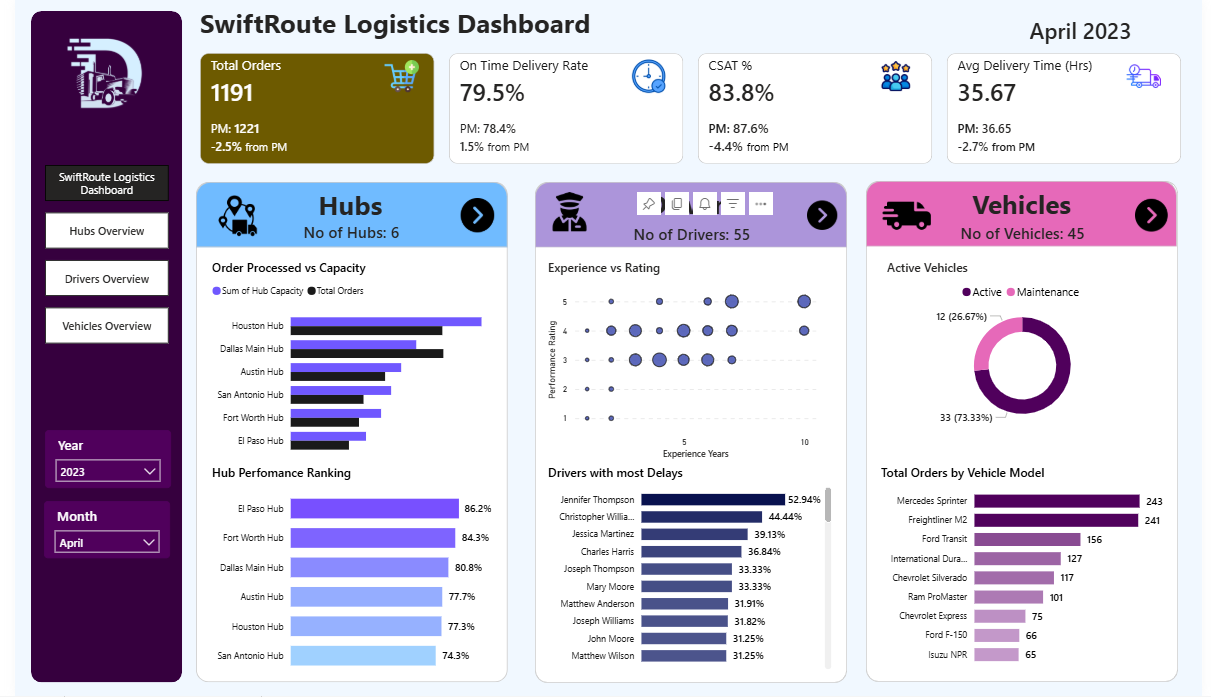

What the dashboard file says about the page in this screenshot:
{"tool":"powerbi","page":{"name":"SwiftRoute Logistics Dashboard","canvas":[1450,850],"ordinal":0},"visuals":[{"type":"shape","box":[19,13.3,184.6,820.1],"z":0},{"type":"textbox","box":[220.7,0,504.3,72.3],"z":1000},{"type":"cardVisual","fields":{"Data":["Orders.Total Orders","Orders.On Time Delivery Rate","Orders.CSAT %","Orders.Avg Delivery Time (Hrs)"]},"box":[220.7,55.2,1210.2,150.3],"z":2000},{"type":"slicer","fields":{"Values":["Date Table.Year"]},"box":[36.1,525.4,153.7,70.6],"z":3000},{"type":"slicer","fields":{"Values":["Date Table.Month"]},"box":[35.6,611.4,154,70],"z":4000},{"type":"shape","box":[220.7,222.6,380.6,610.8],"z":5000},{"type":"shape","box":[220.7,222.6,380.6,79.9],"z":6000},{"type":"textbox","box":[291.1,222.6,237.9,72.3],"z":7000},{"type":"cardVisual","fields":{"Data":["Hubs.No of Hubs"]},"box":[310.2,262.6,201.7,40],"z":8000},{"type":"clusteredBarChart","title":"Order Processed vs Capacity","fields":{"Y":["Sum(Hubs.Hub Capacity)","Orders.Total Orders"],"Category":["Hubs.HubName"]},"box":[235.2,316.8,351.3,249.4],"z":9000},{"type":"barChart","title":"Hub Perfomance Ranking","fields":{"Category":["Hubs.HubName"],"Y":["Orders.On Time Delivery Rate"]},"box":[235.2,566.1,351.3,266.6],"z":10000},{"type":"shape","box":[635.1,222.7,381.1,611.6],"z":11000},{"type":"shape","box":[1039.8,221.1,381.1,611.6],"z":12000},{"type":"shape","box":[635.1,222.7,381.1,80],"z":13000},{"type":"shape","box":[1039.8,221.1,379.5,80],"z":14000},{"type":"textbox","box":[707.3,221.1,238.4,72.1],"z":15000},{"type":"textbox","box":[1110.3,221.1,238.4,72.1],"z":16000},{"type":"cardVisual","fields":{"Data":["Vehicles.No of Vehicles"]},"box":[1129.2,263.5,202.3,39.2],"z":17000},{"type":"cardVisual","fields":{"Data":["Drivers.No of Drivers"]},"box":[726.1,263.5,200.7,40.8],"z":18000},{"type":"scatterChart","title":"Experience vs Rating","fields":{"X":["Drivers.Experience Years"],"Y":["Drivers.Performance Rating"],"Size":["Sum(Drivers.Experience Years)1"]},"box":[646.1,316.8,343.5,249.4],"z":19000},{"type":"barChart","title":"Drivers with most Delays","fields":{"Category":["Drivers.DriverName"],"Y":["Orders.Delayed Delivery Rate"]},"box":[646.1,566.1,356,255.6],"z":20000},{"type":"donutChart","title":"Active Vehicles","fields":{"Category":["Vehicles.Vehicle Status"],"Y":["CountNonNull(Vehicles.Vehicle ID)"]},"box":[1060.1,316.8,340.3,211.7],"z":21000},{"type":"barChart","fields":{"Category":["Vehicles.Vehicle Model"],"Y":["Orders.Total Orders"]},"box":[1052.3,566.1,356,255.6],"z":22000},{"type":"image","box":[54.9,36.1,111.3,112.9],"z":23000},{"type":"cardVisual","fields":{"Data":["Orders.Year Month Title"]},"box":[1182.5,9.4,238.4,51.8],"z":24000},{"type":"image","box":[966.7,241.7,36.7,41.7],"z":25000},{"type":"pageNavigator","box":[36.7,201.7,151.7,221.7],"z":26000},{"type":"image","box":[1368.3,241.7,40,41.7],"z":27000},{"type":"image","box":[541.7,241.7,45,41.7],"z":28000},{"type":"image","box":[745,71.7,58.3,41.7],"z":29000},{"type":"image","box":[1041.7,71.7,68.3,41.7],"z":30000},{"type":"image","box":[1350,71.7,58.3,41.7],"z":31000},{"type":"image","box":[443.3,71.7,58.3,41.7],"z":32000},{"type":"image","box":[235,235,75,58.3],"z":33000},{"type":"image","box":[646.7,235,60,48.3],"z":34000},{"type":"image","box":[1051.7,235,75,58.3],"z":35000}]}

Visuals, with their boxes in screenshot pixels (x1, y1, x2, y2), scaled from the page's 1450x850 canvas onto the 1211x697 screenshot:
shape: <region>16, 11, 170, 683</region>
textbox: <region>184, 0, 606, 59</region>
cardVisual - Orders.Total Orders x Orders.On Time Delivery Rate: <region>184, 45, 1195, 169</region>
slicer - Date Table.Year: <region>30, 431, 159, 489</region>
slicer - Date Table.Month: <region>30, 501, 158, 559</region>
shape: <region>184, 183, 502, 683</region>
shape: <region>184, 183, 502, 248</region>
textbox: <region>243, 183, 442, 242</region>
cardVisual - Hubs.No of Hubs: <region>259, 215, 428, 248</region>
"Order Processed vs Capacity" clusteredBarChart: <region>196, 260, 490, 464</region>
"Hub Perfomance Ranking" barChart: <region>196, 464, 490, 683</region>
shape: <region>530, 183, 849, 684</region>
shape: <region>868, 181, 1187, 683</region>
shape: <region>530, 183, 849, 248</region>
shape: <region>868, 181, 1185, 247</region>
textbox: <region>591, 181, 790, 240</region>
textbox: <region>927, 181, 1126, 240</region>
cardVisual - Vehicles.No of Vehicles: <region>943, 216, 1112, 248</region>
cardVisual - Drivers.No of Drivers: <region>606, 216, 774, 250</region>
"Experience vs Rating" scatterChart: <region>540, 260, 826, 464</region>
"Drivers with most Delays" barChart: <region>540, 464, 837, 674</region>
"Active Vehicles" donutChart: <region>885, 260, 1170, 433</region>
barChart - Vehicles.Vehicle Model x Orders.Total Orders: <region>879, 464, 1176, 674</region>
image: <region>46, 30, 139, 122</region>
cardVisual - Orders.Year Month Title: <region>988, 8, 1187, 50</region>
image: <region>807, 198, 838, 232</region>
pageNavigator: <region>31, 165, 157, 347</region>
image: <region>1143, 198, 1176, 232</region>
image: <region>452, 198, 490, 232</region>
image: <region>622, 59, 671, 93</region>
image: <region>870, 59, 927, 93</region>
image: <region>1127, 59, 1176, 93</region>
image: <region>370, 59, 419, 93</region>
image: <region>196, 193, 259, 241</region>
image: <region>540, 193, 590, 232</region>
image: <region>878, 193, 941, 241</region>
